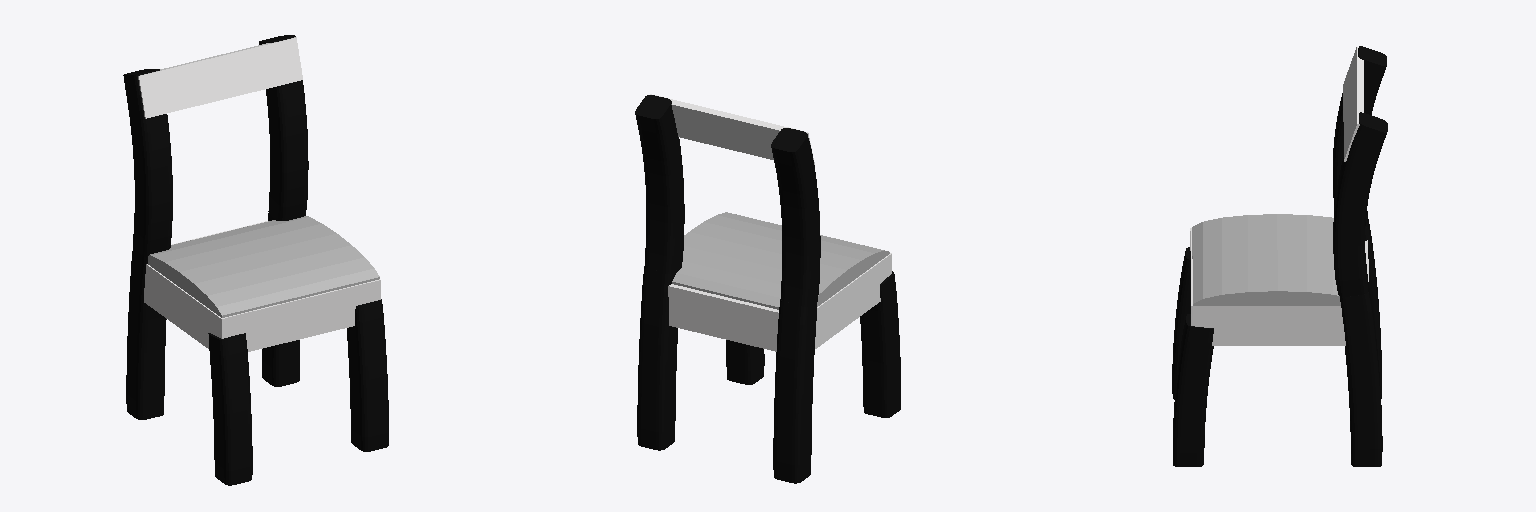
File: chair.obj
The picture shows the model from 3 angles: view 1: azimuth 30°, elevation 25°; view 2: azimuth 150°, elevation 25°; view 3: azimuth 270°, elevation 25°; orthographic projection.
Visible parts, largest first — view 1: Cylinder001, Box014, Box002, Box008, Box016, Box005, Box012, Box004, Box011, Box006; view 2: Cylinder001, Box004, Box002, Box005, Box006, Box013, Box008, Box014, Box011, Box016; view 3: Cylinder001, Box005, Box010, Box006, Box016, Box002, Box014, Box008, Box004.
Part boxes in pixels (x1,y1,x2,y2): Cylinder001: (148, 216, 379, 317); Box014: (138, 37, 302, 118); Box002: (123, 69, 172, 257); Box008: (208, 333, 252, 485); Box016: (347, 299, 388, 451); Box005: (259, 35, 308, 220); Box012: (222, 280, 378, 351); Box004: (126, 246, 166, 419); Box011: (144, 264, 227, 348); Box006: (262, 213, 299, 386); Cylinder001: (672, 212, 889, 309); Box004: (773, 299, 816, 483); Box002: (771, 128, 820, 306); Box005: (635, 95, 684, 273); Box006: (637, 266, 677, 450); Box013: (668, 284, 778, 351); Box008: (860, 271, 900, 417); Box014: (650, 94, 814, 164); Box011: (815, 253, 891, 348); Box016: (726, 340, 764, 384); Cylinder001: (1192, 214, 1340, 305); Box005: (1333, 112, 1387, 296); Box010: (1191, 303, 1345, 345); Box006: (1340, 288, 1382, 466); Box016: (1173, 314, 1213, 466); Box002: (1333, 46, 1386, 227); Box014: (1343, 47, 1363, 161); Box008: (1172, 247, 1190, 399); Box004: (1365, 219, 1381, 398).
Bounding box in the file's own units: 10.14 × 20.25 × 11.53.